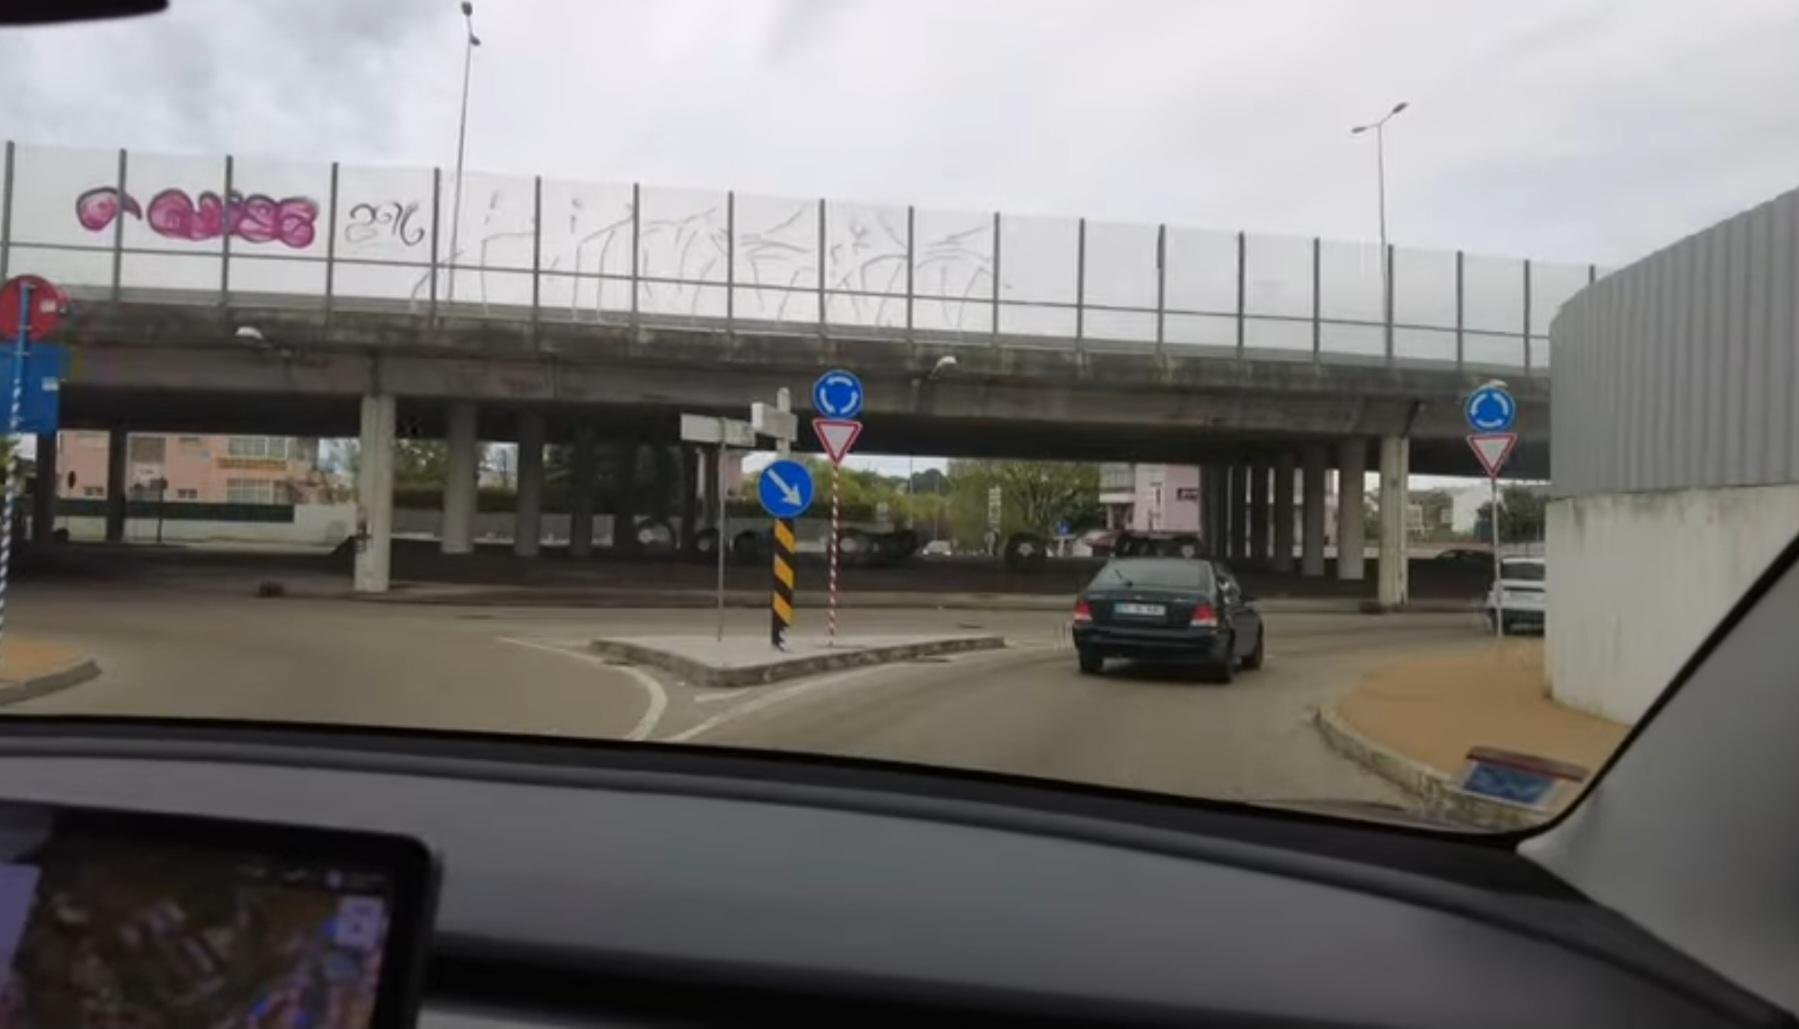Aproximacao de rotunda: (807, 367, 874, 420), (1467, 377, 1520, 443)
baliza de posicao: (772, 523, 797, 630)
cedencia de passagem: (1459, 439, 1519, 477)
sentido obrigatorio: (760, 463, 818, 518)
